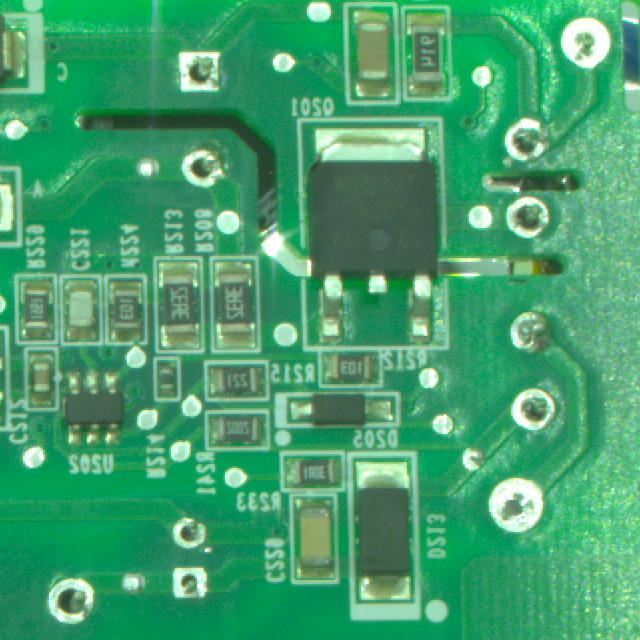oppostie_direction: (489, 477, 542, 532), (563, 19, 610, 68), (511, 387, 556, 431), (49, 579, 94, 623), (505, 117, 548, 161), (506, 196, 550, 238), (179, 53, 219, 92), (511, 313, 549, 352), (182, 150, 222, 187), (172, 568, 208, 599), (172, 518, 206, 548)
